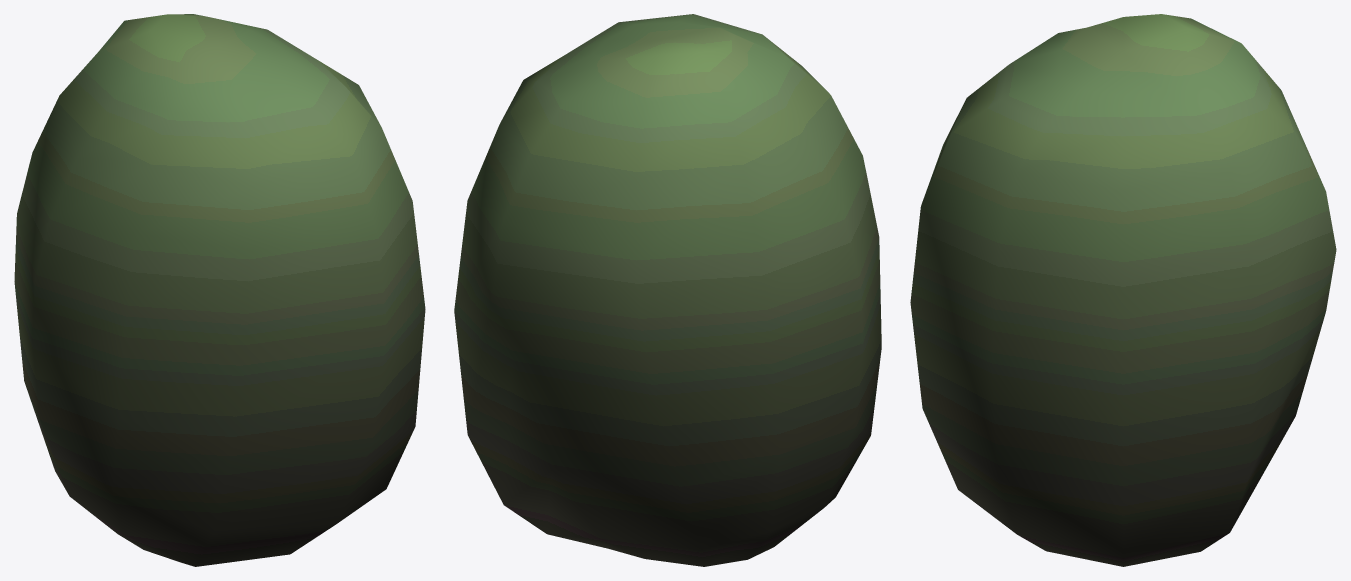
The model's file is SM_Bush_002.fbx.
3 renders of one model, left to right at view 1: azimuth 30°, elevation 25°; view 2: azimuth 150°, elevation 25°; view 3: azimuth 270°, elevation 25°, orthographic. The views are drawn at different scales.
Parts seen in each view (by area): view 1: SM_Bush_002; view 2: SM_Bush_002; view 3: SM_Bush_002.
Part boxes in pixels (x1,y1,x2,y2): SM_Bush_002: (14,14,425,566); SM_Bush_002: (454,14,881,566); SM_Bush_002: (910,14,1336,566).
Bounding box in the file's own units: 372 × 476 × 371.
